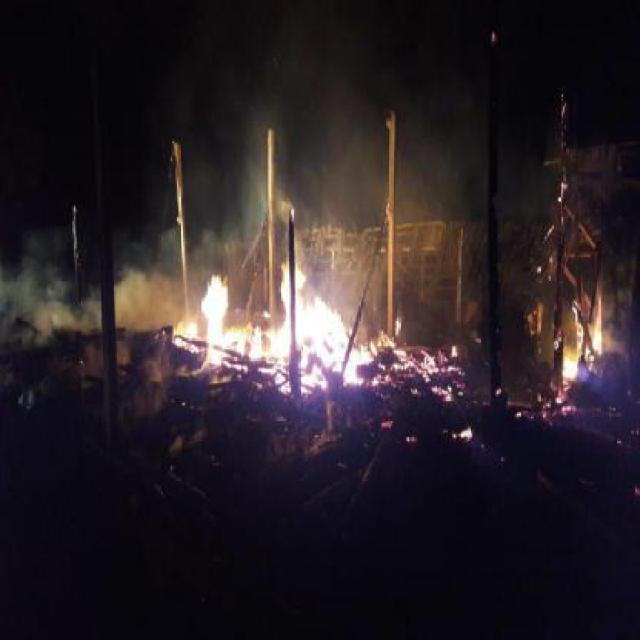Fire: (168, 254, 370, 396), (370, 342, 462, 400), (562, 293, 602, 387), (455, 424, 473, 442)
